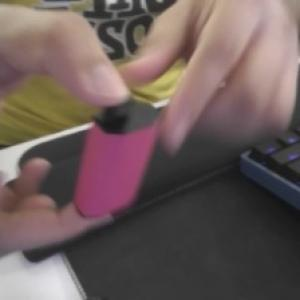Blume-E-Ciggirate: (73, 95, 162, 222)
